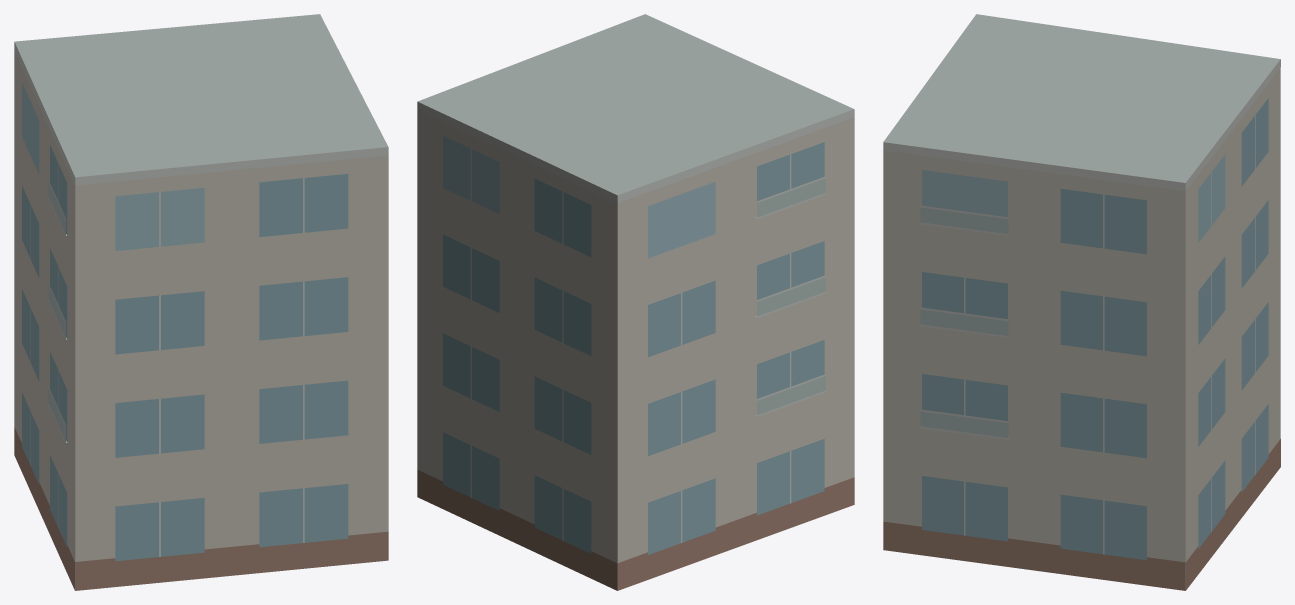
Rendered from survey-upis-32730440.glb.
The picture shows the model from 3 angles, left to right: view 1: azimuth 30°, elevation 25°; view 2: azimuth 150°, elevation 25°; view 3: azimuth 270°, elevation 25°; orthographic projection. The views are drawn at different scales.
Visible parts, largest first — view 1: survey-upis-32730440.tmp; view 2: survey-upis-32730440.tmp; view 3: survey-upis-32730440.tmp.
Part boxes in pixels (left/top/right/bottom): survey-upis-32730440.tmp: left=14, top=14, right=388, bottom=590; survey-upis-32730440.tmp: left=417, top=14, right=854, bottom=590; survey-upis-32730440.tmp: left=883, top=14, right=1280, bottom=590.
Bounding box in the file's own units: 10.85 × 12.2 × 10.79.
